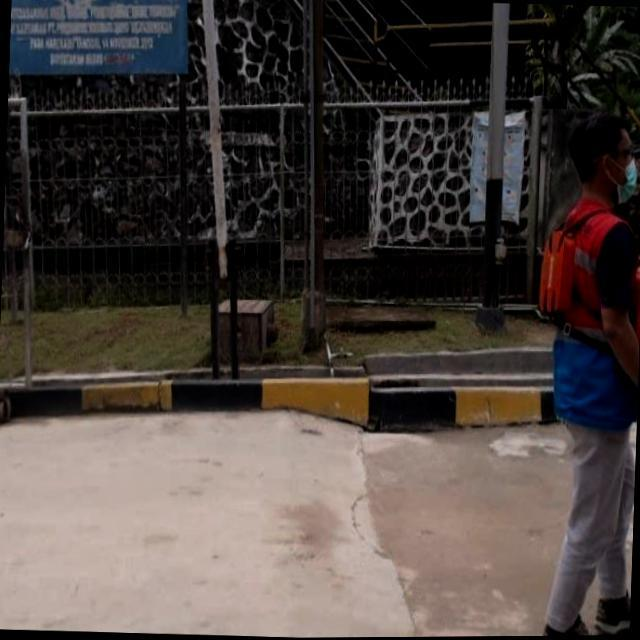goggles_on: (583, 139, 640, 170)
